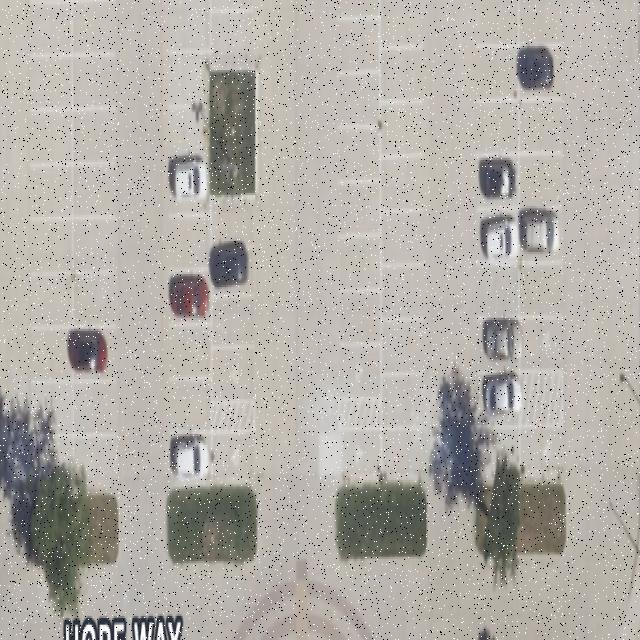Empty: (211, 12, 257, 72), (72, 106, 116, 166), (31, 107, 74, 165), (72, 52, 116, 108), (74, 380, 118, 436), (338, 180, 382, 236), (338, 236, 382, 292), (30, 219, 74, 273), (72, 217, 116, 271), (338, 72, 382, 126), (30, 3, 73, 57), (29, 55, 72, 109), (31, 328, 74, 382), (31, 381, 74, 435), (337, 17, 379, 72), (73, 164, 117, 216), (74, 434, 118, 486), (210, 196, 254, 248), (31, 164, 73, 218), (170, 326, 212, 380), (170, 378, 212, 432), (338, 126, 380, 180), (171, 214, 211, 270), (31, 274, 74, 326), (31, 438, 74, 490), (73, 274, 115, 326), (212, 296, 254, 348), (74, 2, 114, 54), (170, 52, 208, 104), (170, 106, 208, 156)
